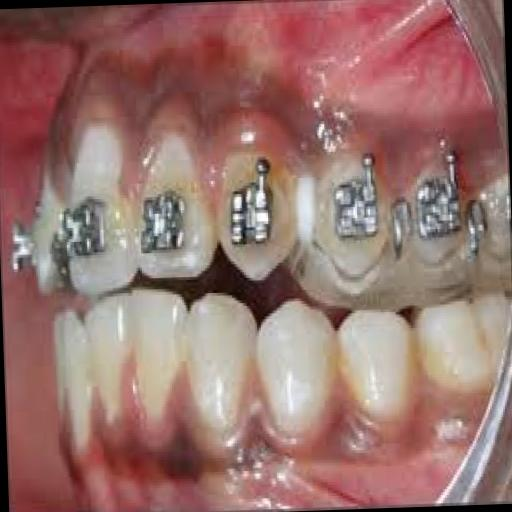correct_brace: (299, 146, 403, 298), (222, 150, 282, 250), (134, 184, 192, 260)
incorrect_brace: (128, 98, 218, 284), (322, 152, 388, 248)
